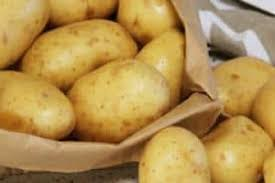potato: (77, 60, 169, 132), (29, 21, 134, 76), (141, 125, 208, 182)
